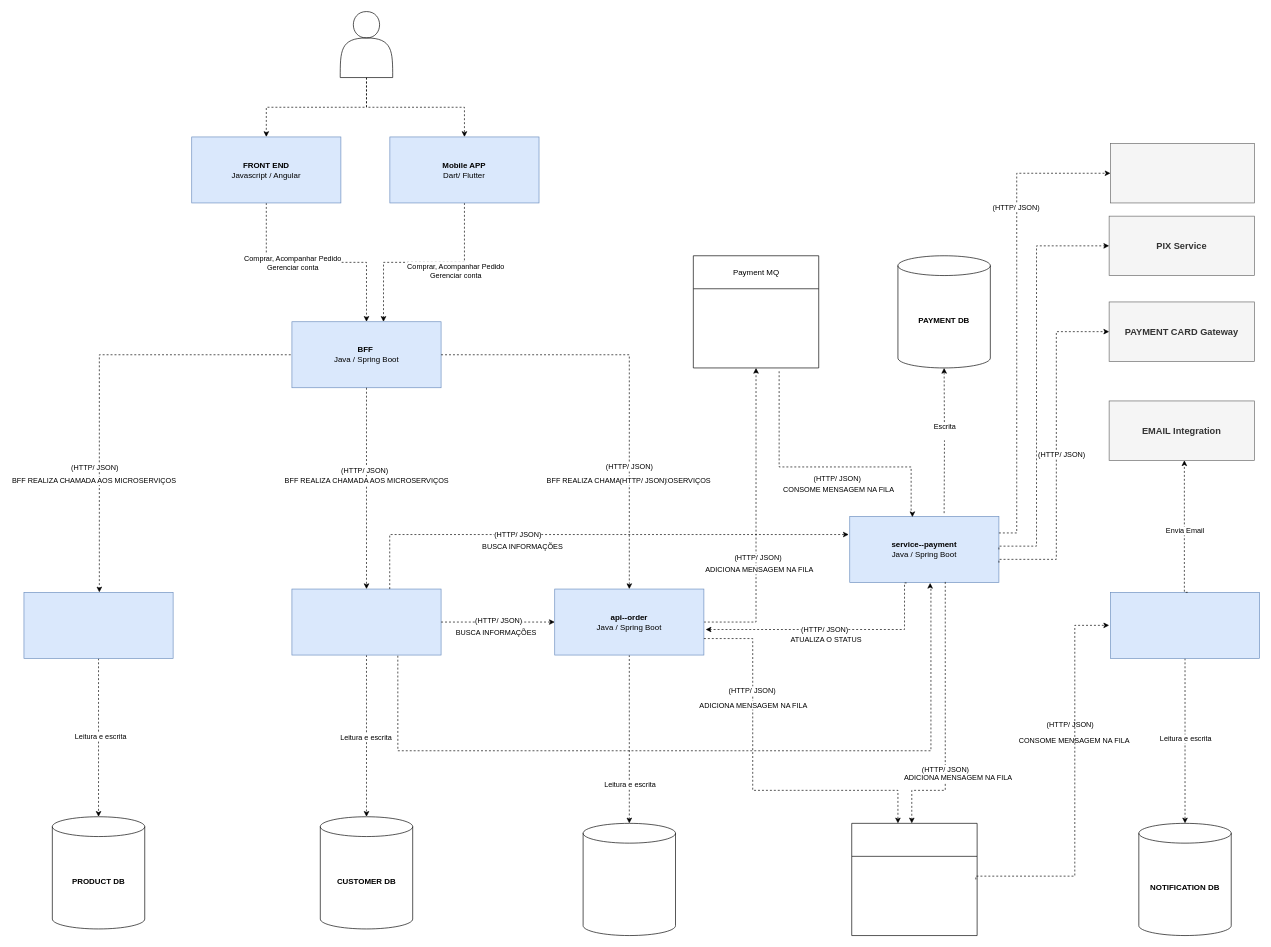
Some shapes in this 1271 by 947 pixel diagram are drawn without their labels. The shapes that lost their labels are listed below. From the top down, each one's centre as x and y in pixels, then its label:
At (x=366, y=44): "Customer".
At (x=1182, y=173): "Bank Service".
At (x=98, y=625): "api--product Java / Spring Boot".
At (x=366, y=621): "api--customer Java / Spring Boot".
At (x=1185, y=625): "service--notification Java / Spring Boot".
At (x=629, y=879): "ORDER DB".
At (x=914, y=879): "Notification MQ".
